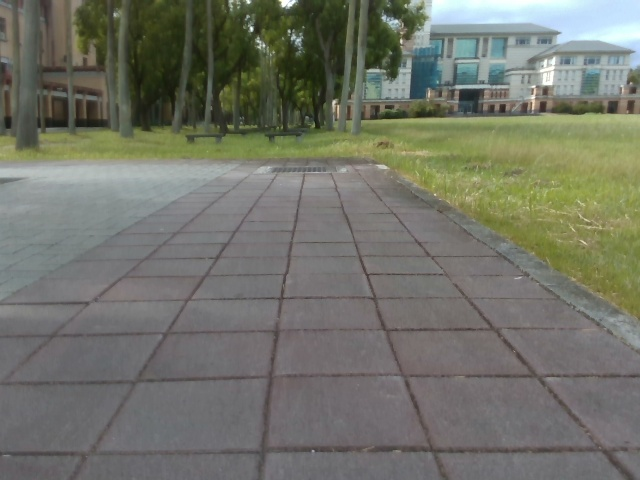grass: (0, 108, 639, 341), (71, 0, 430, 135)
road: (0, 162, 639, 479)
sidewalk: (0, 162, 225, 283)
